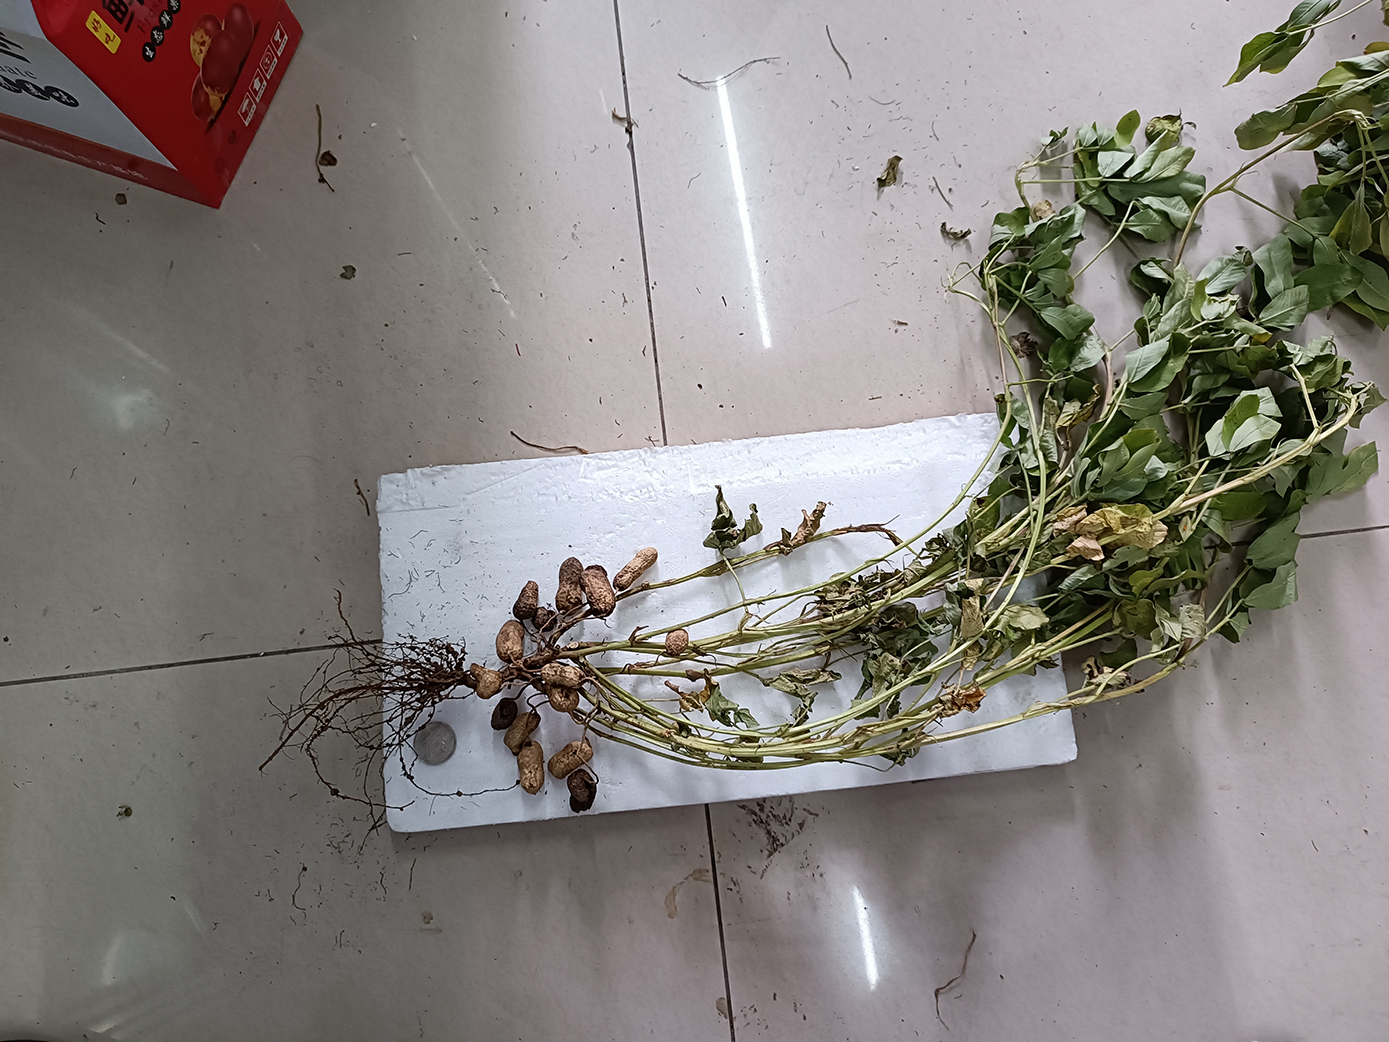h: (612, 547, 658, 592), (547, 740, 594, 779), (503, 713, 542, 755), (517, 740, 544, 794), (468, 663, 503, 699), (496, 620, 524, 661), (541, 663, 586, 690), (548, 687, 579, 713), (664, 628, 688, 656)
l: (581, 564, 616, 617), (556, 556, 584, 616), (567, 768, 597, 814), (513, 580, 539, 621), (490, 699, 518, 731), (531, 605, 555, 632)
